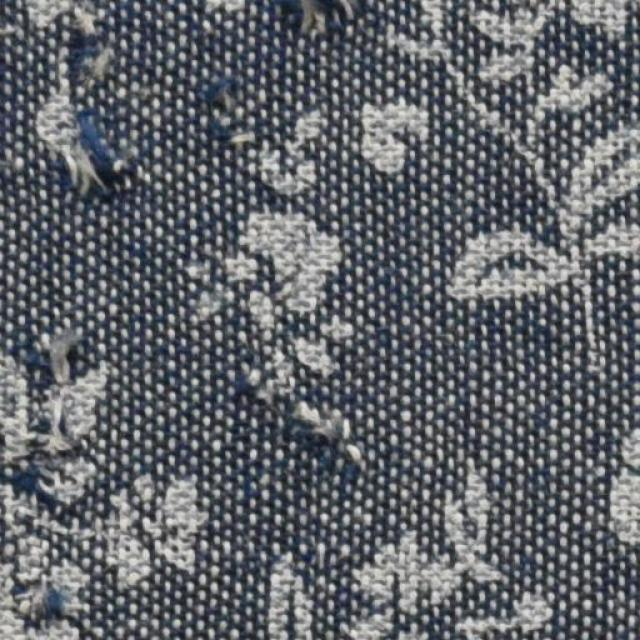Snag: (231, 333, 378, 489), (6, 315, 108, 525), (36, 5, 132, 191), (278, 0, 368, 51), (188, 66, 242, 147)
